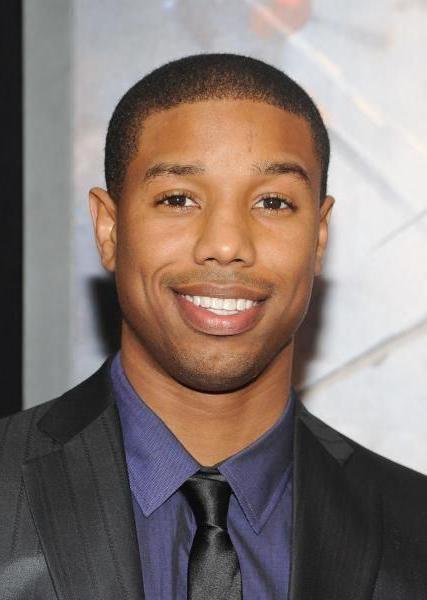Sober: (125, 120, 313, 365)
